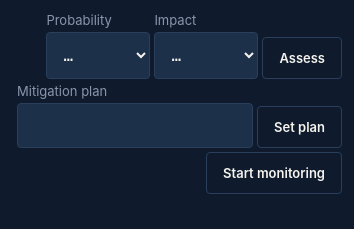
Test: RiskWorkflowActions — set mitigation plan › falls back to a generic error message when saving the plan fails without one
Type "Add a secondary supplier" into the field labelled "Mitigation plan" at x=135, y=126, box x1=17 y1=103 x2=253 y2=148
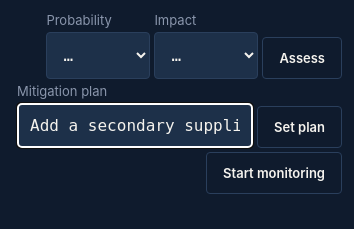
Click the button "Set plan" at x=300, y=127, box x1=257 y1=106 x2=342 y2=148
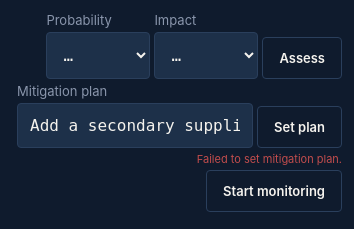
Expected: the text "Failed to set mitigation plan." is shown, x1=197 y1=152 x2=342 y2=166
